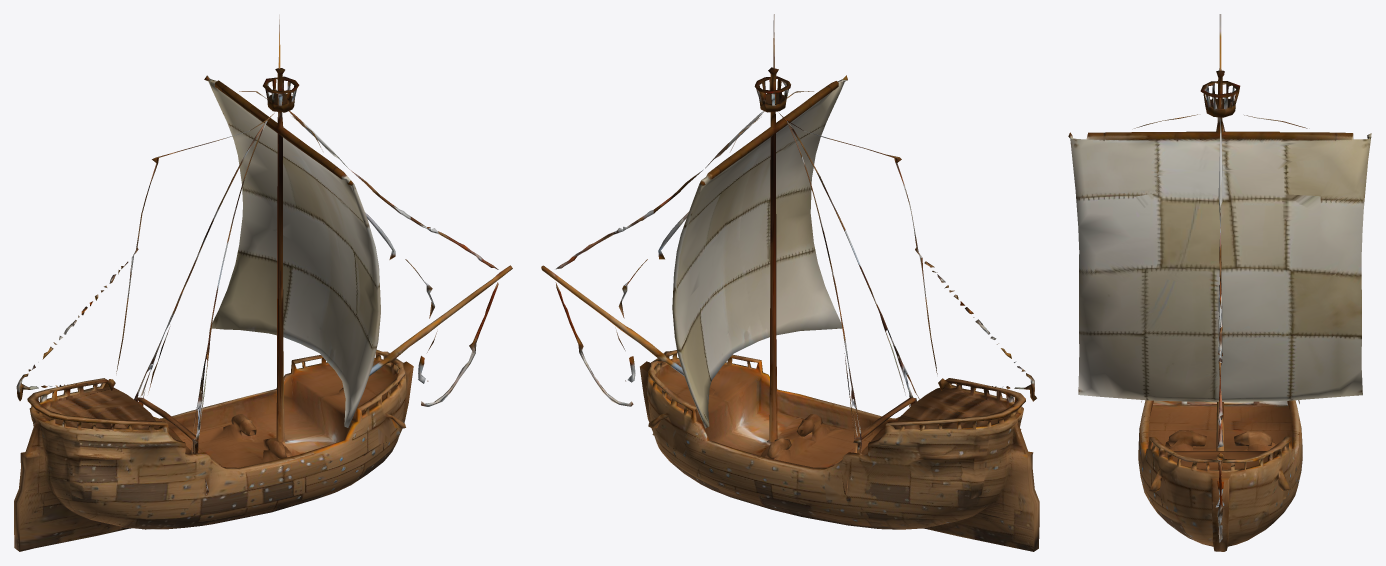
The model's file is shiprepairedfixedlatest.fbx.
3 renders of one model, left to right at view 1: azimuth 30°, elevation 25°; view 2: azimuth 150°, elevation 25°; view 3: azimuth 270°, elevation 25°, orthographic. The views are drawn at different scales.
Parts seen in each view (by area): view 1: tripo_node_4d0a0136; view 2: tripo_node_4d0a0136; view 3: tripo_node_4d0a0136.
Part boxes in pixels (x1=…): tripo_node_4d0a0136: x1=14, y1=14, x2=512, y2=551; tripo_node_4d0a0136: x1=541, y1=14, x2=1039, y2=551; tripo_node_4d0a0136: x1=1068, y1=14, x2=1371, y2=551.
Size of the model in its own units: 1 by 0.9286 by 0.5068.
Materials: 1 (1 with a texture image).
